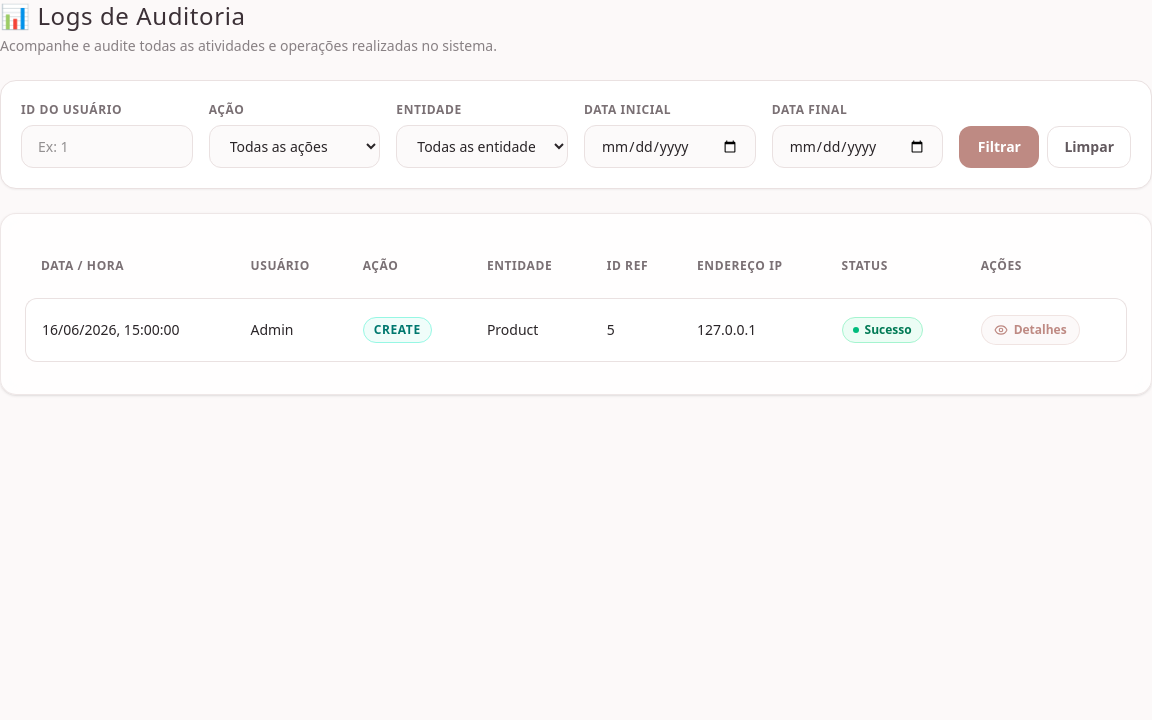
Test: AuditLog Page › opens details modal and displays prettified JSON
The width and height of the screenshot is (1152, 720).
Click the button "Detalhes".
click(1030, 330)  # box left=981, top=315, right=1080, bottom=345
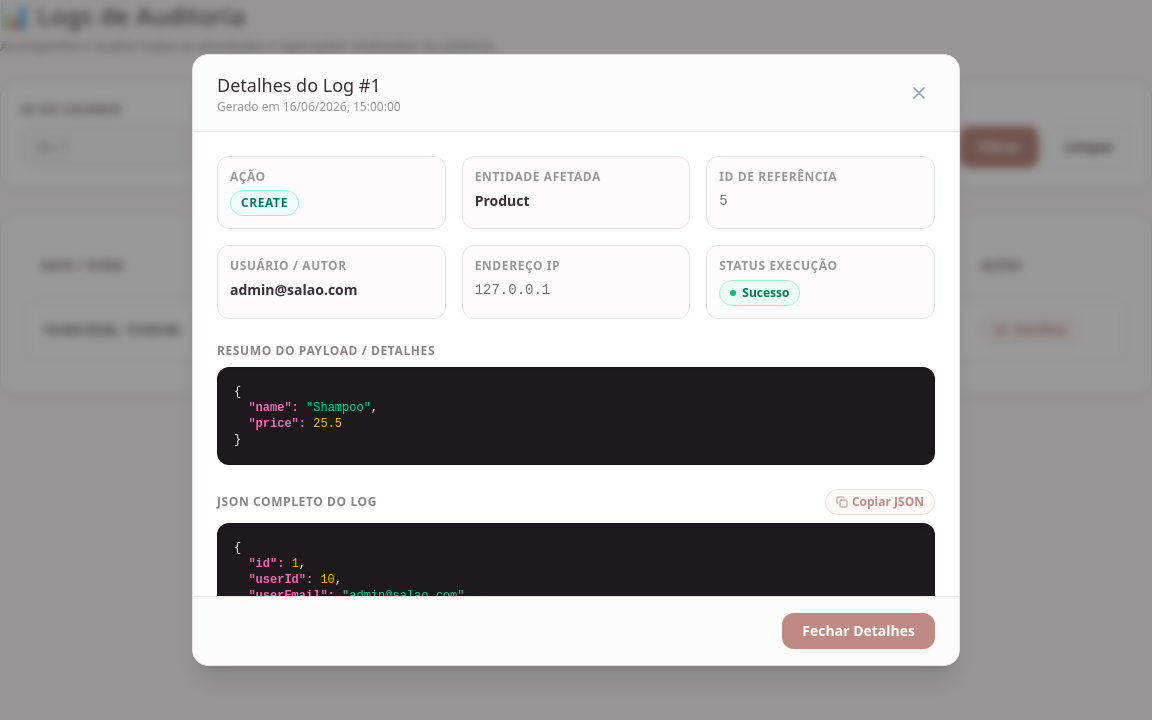
Expected: the heading "Detalhes do Log #1" is shown, left=217, top=71, right=401, bottom=99
Expected: the text "Resumo do Payload / Detalhes" is shown, left=217, top=342, right=435, bottom=359
Expected: the text "\"name\":" is shown, left=248, top=401, right=299, bottom=415
Click the button "Fechar Detalhes".
click(859, 631)  # box left=782, top=613, right=935, bottom=649
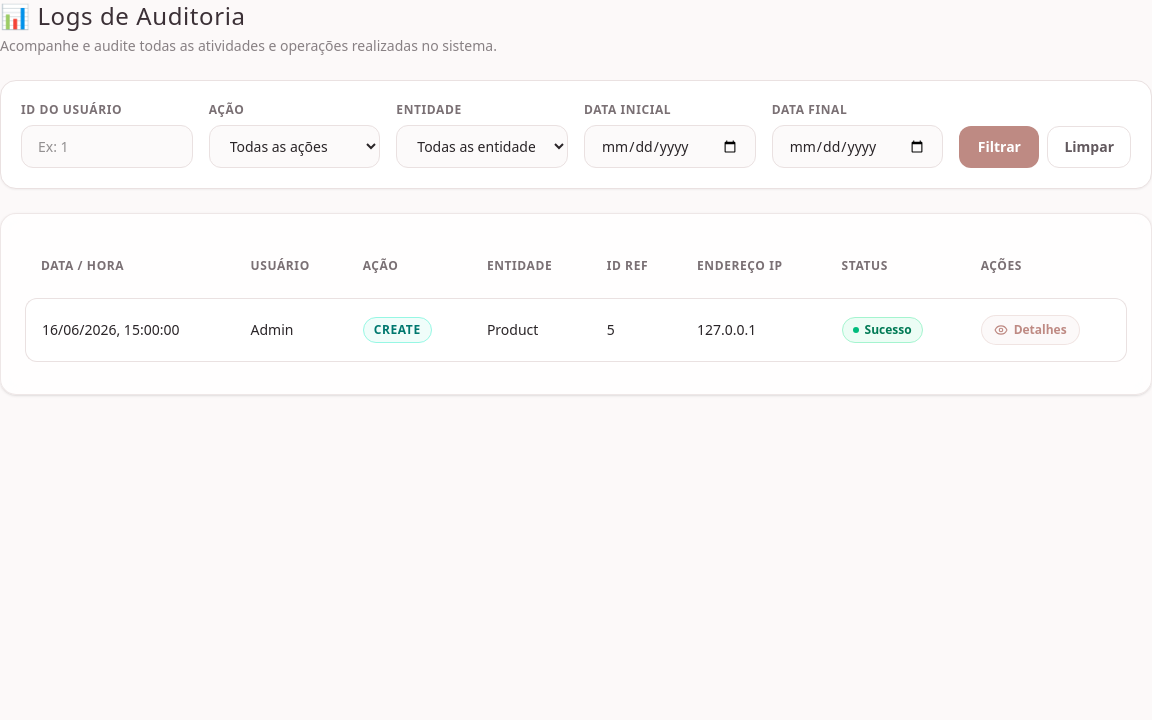
Expected: the heading "Detalhes do Log" is gone
